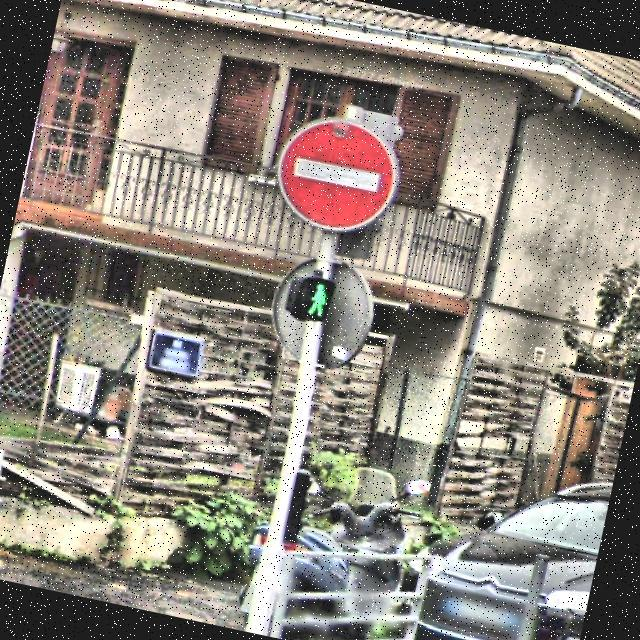green_light: (301, 274, 331, 319)
